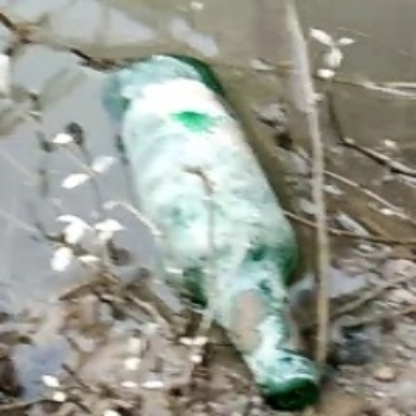bottle: (118, 58, 323, 407)
